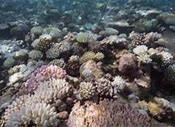bleached_corals: (0, 56, 87, 127), (132, 43, 154, 67), (111, 75, 129, 92)
